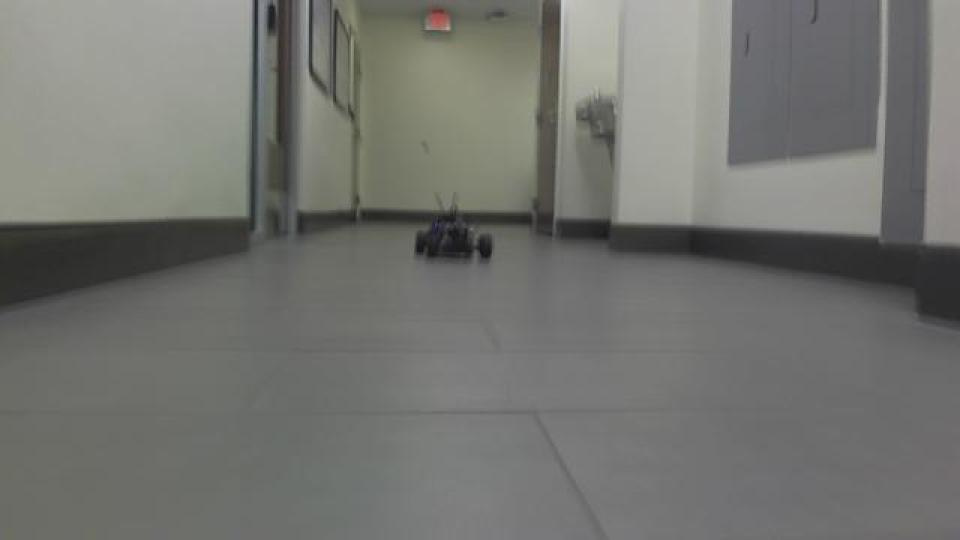car: (410, 190, 496, 264)
